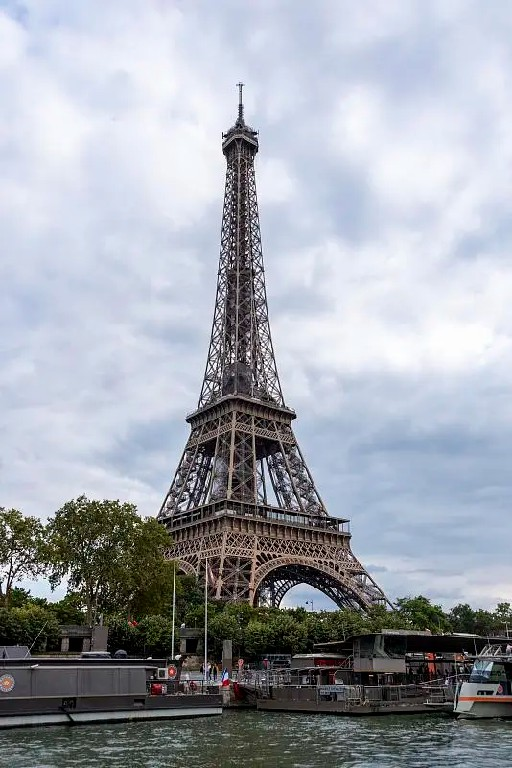Eiffel: (135, 85, 400, 616)
